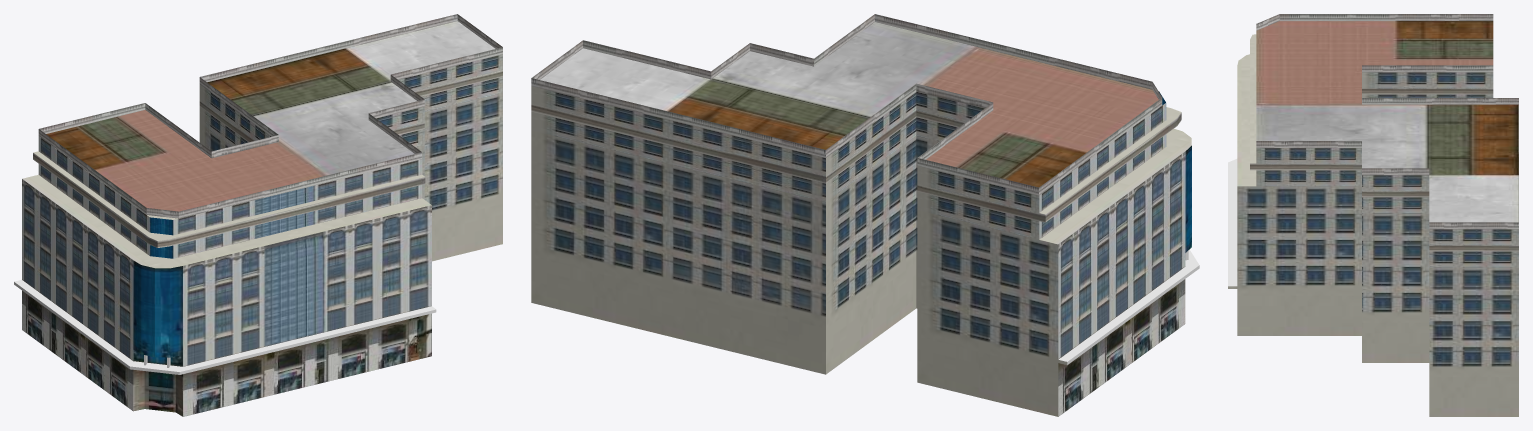
3 views of the same model, side by side, from view 1: azimuth 30°, elevation 25°; view 2: azimuth 150°, elevation 25°; view 3: azimuth 270°, elevation 25° (orthographic). The views are drawn at different scales.
Parts seen in each view (by area): view 1: HN1081___Hong_Ha_Center; view 2: HN1081___Hong_Ha_Center; view 3: HN1081___Hong_Ha_Center.
Part boxes in pixels (bbox=[...]): HN1081___Hong_Ha_Center: bbox=[14, 14, 502, 416]; HN1081___Hong_Ha_Center: bbox=[531, 14, 1199, 416]; HN1081___Hong_Ha_Center: bbox=[1228, 14, 1518, 416].
Size of the model in its own units: 81.41 by 33.56 by 45.41.
1 material, 1 textured.
